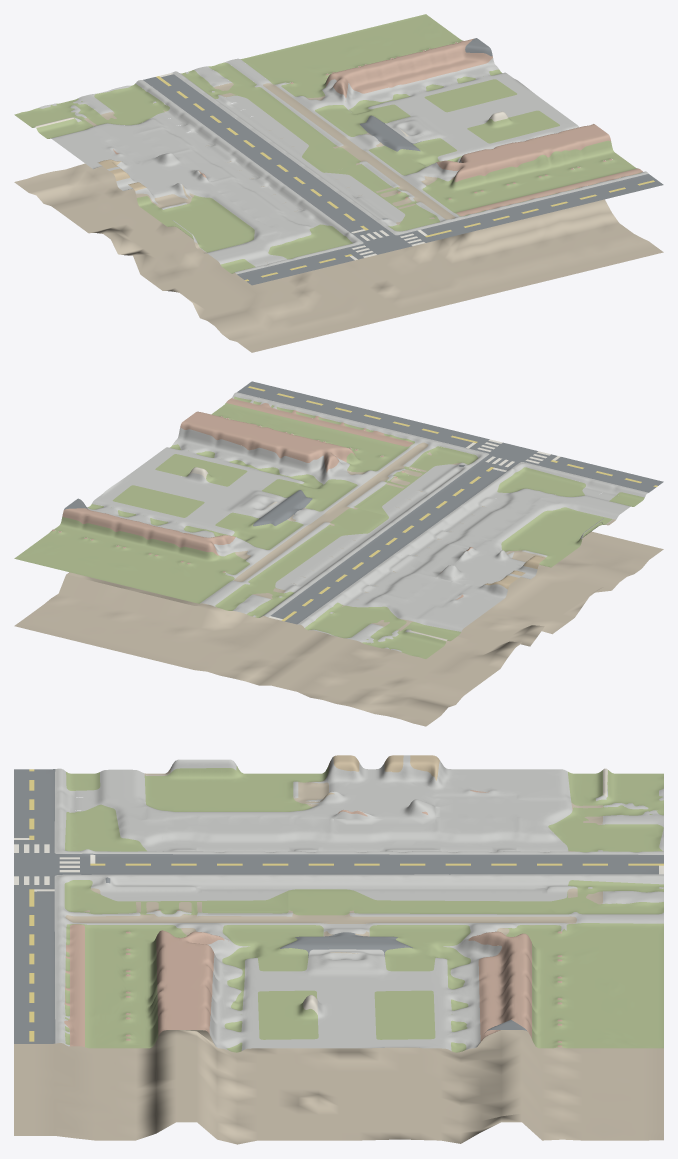
3 renders of one model, top to bottom at view 1: azimuth 30°, elevation 25°; view 2: azimuth 150°, elevation 25°; view 3: azimuth 270°, elevation 25°, orthographic. The views are drawn at different scales.
Parts seen in each view (by area): view 1: s_-6_3__soil, s_-6_3__stone_paving, s_-6_3__grass, s_-6_3__asphalt, s_-6_3__brick_paving, s_-6_3__yellow_marking, s_-6_3__white_marking; view 2: s_-6_3__soil, s_-6_3__stone_paving, s_-6_3__grass, s_-6_3__asphalt, s_-6_3__brick_paving, s_-6_3__yellow_marking; view 3: s_-6_3__stone_paving, s_-6_3__grass, s_-6_3__soil, s_-6_3__asphalt, s_-6_3__brick_paving, s_-6_3__yellow_marking, s_-6_3__timber_deck, s_-6_3__white_marking.
Boxes of the visible parts, bbox=[...] form: s_-6_3__soil: bbox=[14, 83, 663, 352]; s_-6_3__stone_paving: bbox=[38, 58, 648, 274]; s_-6_3__grass: bbox=[14, 14, 641, 273]; s_-6_3__asphalt: bbox=[143, 38, 663, 285]; s_-6_3__brick_paving: bbox=[113, 38, 642, 216]; s_-6_3__yellow_marking: bbox=[156, 76, 654, 281]; s_-6_3__white_marking: bbox=[159, 73, 427, 260]; s_-6_3__soil: bbox=[14, 442, 663, 726]; s_-6_3__stone_paving: bbox=[87, 392, 648, 652]; s_-6_3__grass: bbox=[14, 396, 644, 658]; s_-6_3__asphalt: bbox=[64, 381, 663, 624]; s_-6_3__brick_paving: bbox=[52, 398, 472, 599]; s_-6_3__yellow_marking: bbox=[248, 386, 657, 621]; s_-6_3__stone_paving: bbox=[54, 755, 663, 1050]; s_-6_3__grass: bbox=[64, 765, 663, 1052]; s_-6_3__soil: bbox=[14, 760, 663, 1144]; s_-6_3__asphalt: bbox=[14, 769, 663, 1043]; s_-6_3__brick_paving: bbox=[64, 790, 562, 1047]; s_-6_3__yellow_marking: bbox=[29, 769, 663, 1041]; s_-6_3__timber_deck: bbox=[324, 755, 439, 797]; s_-6_3__white_marking: bbox=[14, 838, 663, 891].
Size of the model in its own units: 128 by 25.01 by 128.
